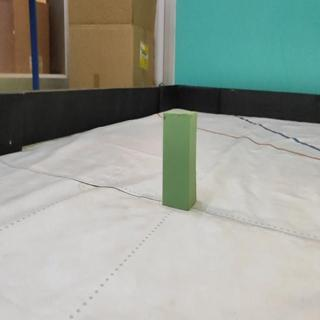greenbox: (161, 109, 198, 211)
